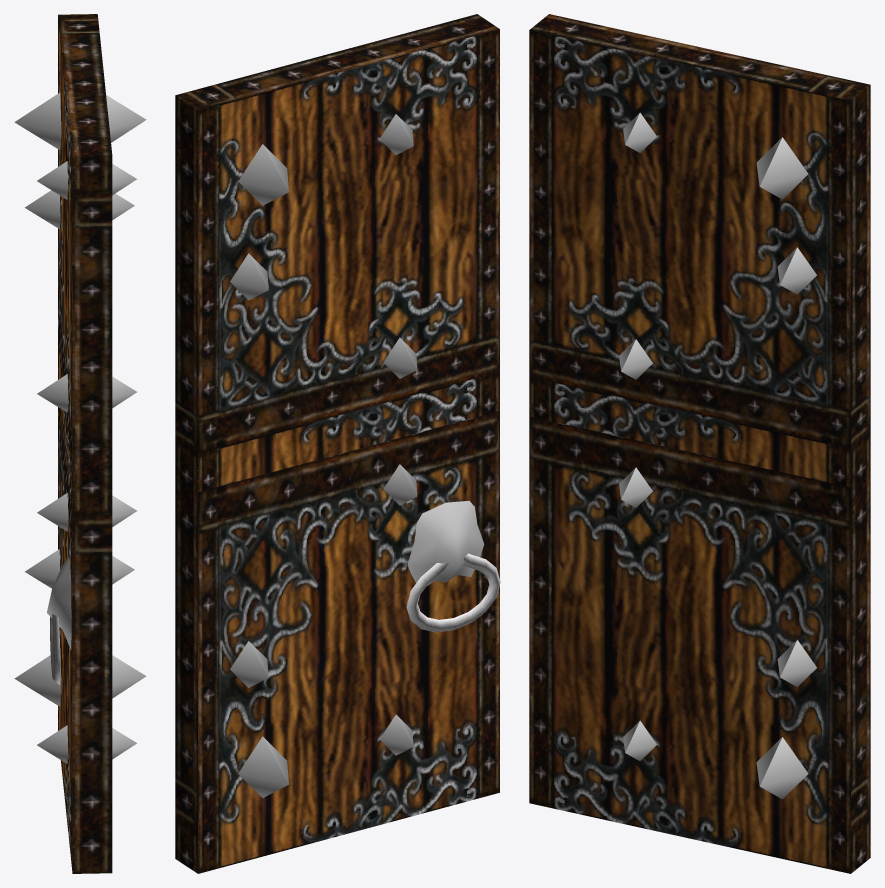
The model's file is ANIMATEDINSTANCES_TROLL_DOOR_02__AI.obj.
3 views of the same model, side by side, from view 1: azimuth 30°, elevation 25°; view 2: azimuth 150°, elevation 25°; view 3: azimuth 270°, elevation 25° (orthographic). The views are drawn at different scales.
Visible parts, largest first — view 1: oll_door_02__AI; view 2: oll_door_02__AI; view 3: oll_door_02__AI.
Part boxes in pixels (box(x1,y1,x2,y2)): oll_door_02__AI: box(14, 14, 146, 873); oll_door_02__AI: box(175, 14, 500, 873); oll_door_02__AI: box(529, 14, 870, 873).
Bounding box in the file's own units: 107 × 408 × 163.
